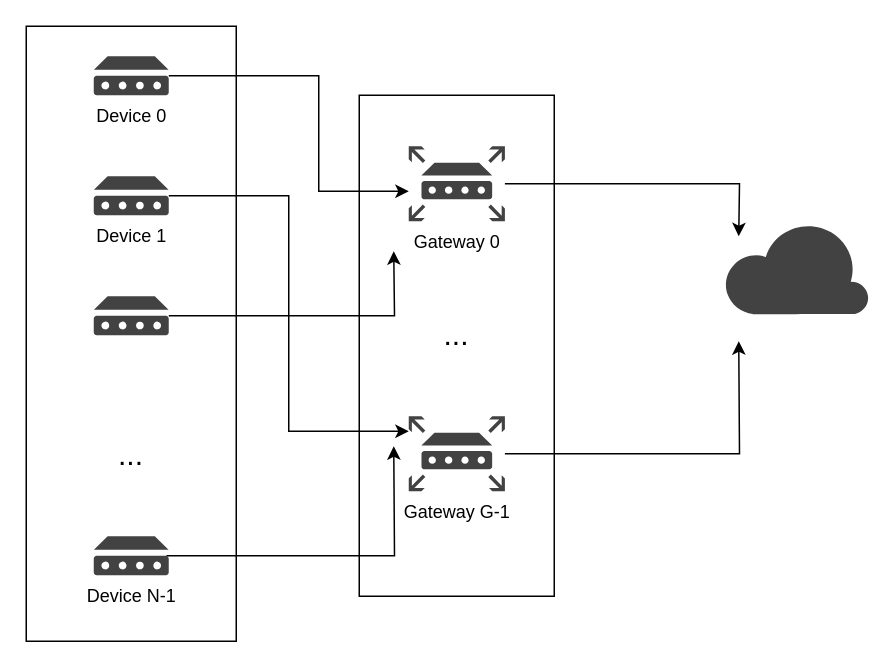
The diagram is 896 pixels wide and 668 high, and some of its shapes have lost their labels. The shapes that lost their labels are listed below. From the top down, each one's centre as x and y in pixels, then its label:
the point at 795,267: Cloud
the point at 130,315: Device 2
